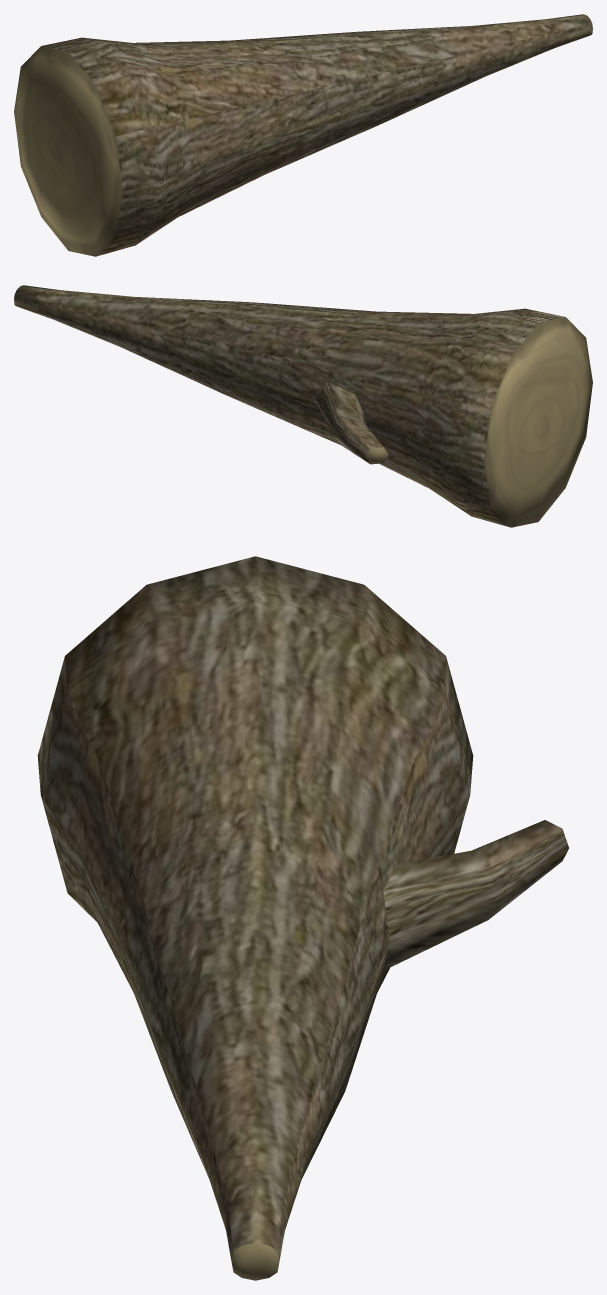
Rendered from woodenclub.fbx.
3 views of the same model, one above another, from view 1: azimuth 30°, elevation 25°; view 2: azimuth 150°, elevation 25°; view 3: azimuth 270°, elevation 25° (orthographic). The views are drawn at different scales.
Parts seen in each view (by area): view 1: club; view 2: club; view 3: club.
Part boxes in pixels (box(x1,y1,x2,y2)): club: box(14, 14, 592, 256); club: box(14, 285, 592, 527); club: box(37, 556, 568, 1280).
Bounding box in the file's own units: 1.23 × 0.4451 × 0.5376.
